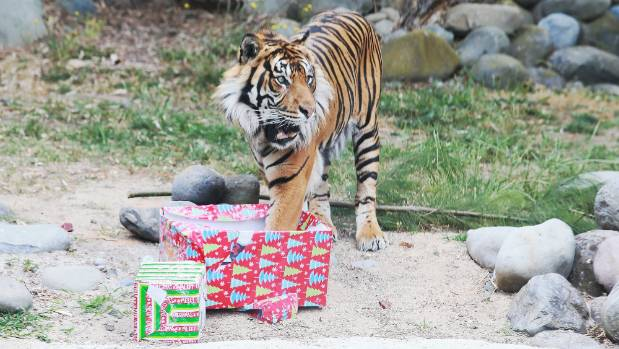Tiger: (214, 11, 415, 253)
